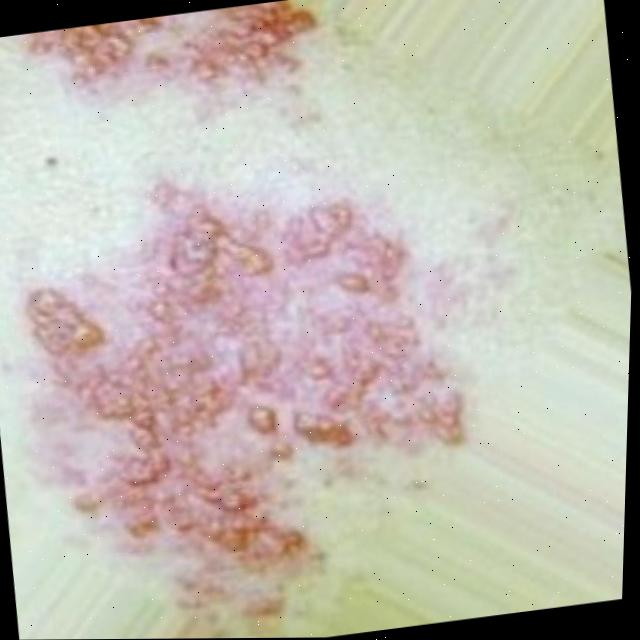Shingles: (11, 165, 482, 580), (36, 0, 315, 99)
